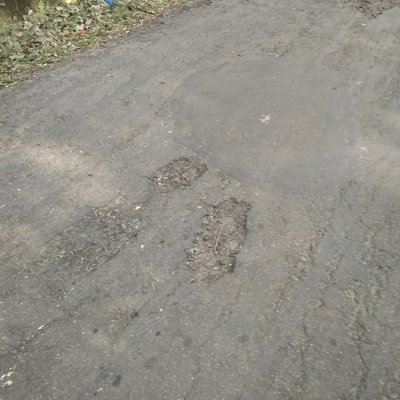pothole: (38, 196, 145, 275), (184, 195, 252, 287), (147, 157, 210, 198), (338, 1, 400, 20)
